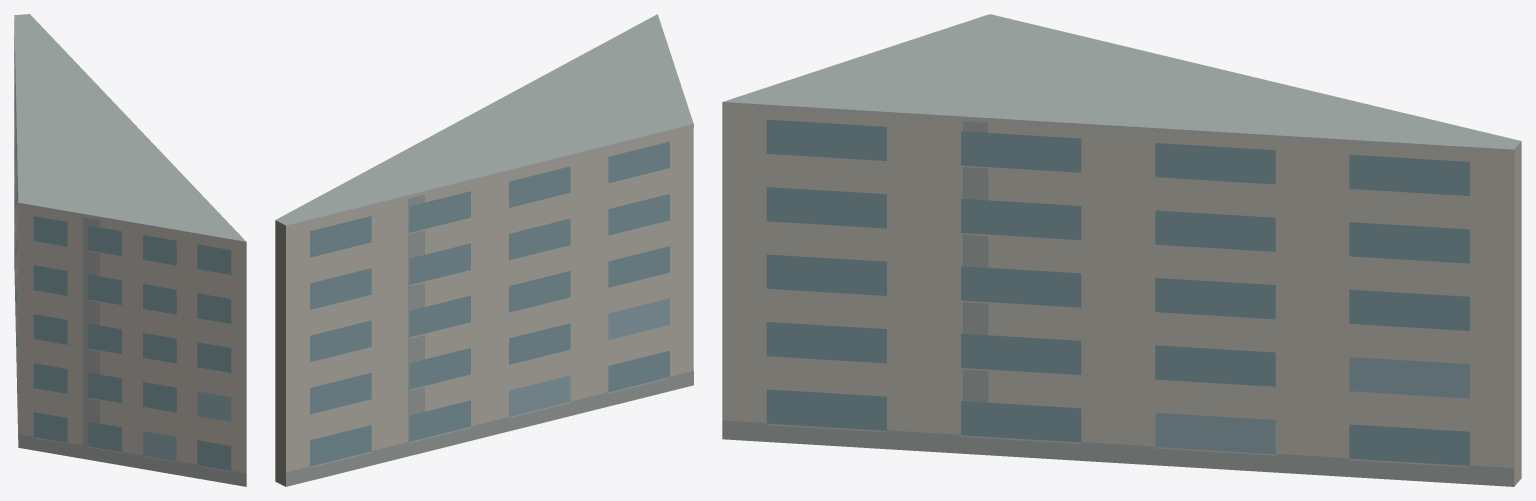
The model's file is survey-upis-32498833.glb.
The picture shows the model from 3 angles, left to right: view 1: azimuth 30°, elevation 25°; view 2: azimuth 150°, elevation 25°; view 3: azimuth 270°, elevation 25°; orthographic projection. The views are drawn at different scales.
Parts seen in each view (by area): view 1: survey-upis-32498833.tmp; view 2: survey-upis-32498833.tmp; view 3: survey-upis-32498833.tmp.
Boxes of the visible parts, left/top/right/bottom form: survey-upis-32498833.tmp: left=14, top=14, right=246, bottom=486; survey-upis-32498833.tmp: left=275, top=14, right=693, bottom=486; survey-upis-32498833.tmp: left=722, top=14, right=1521, bottom=486.
Size of the model in its own units: 14.98 by 17.35 by 37.27.
